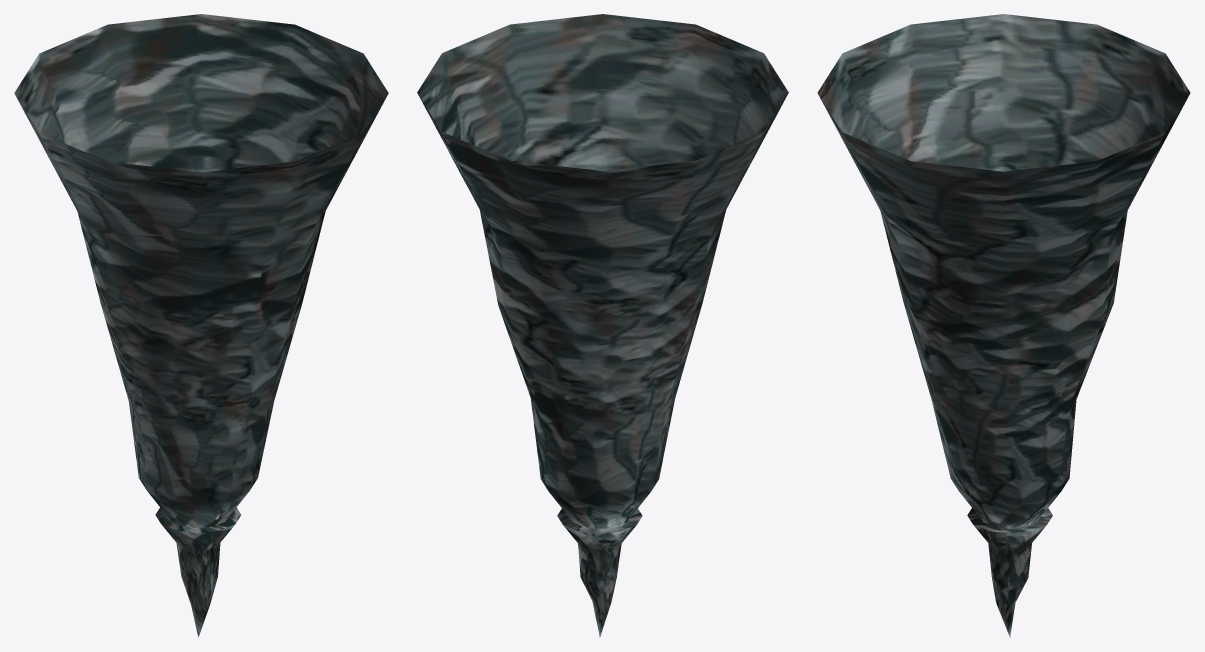
The model's file is INST_SM_STALAGC.fbx.
The picture shows the model from 3 angles, left to right: view 1: azimuth 30°, elevation 25°; view 2: azimuth 150°, elevation 25°; view 3: azimuth 270°, elevation 25°; orthographic projection.
Parts seen in each view (by area): view 1: INST_SM_STALAGC; view 2: INST_SM_STALAGC; view 3: INST_SM_STALAGC.
Part boxes in pixels (x1,y1,x2,y2): INST_SM_STALAGC: (14, 14, 388, 637); INST_SM_STALAGC: (417, 14, 788, 637); INST_SM_STALAGC: (817, 14, 1190, 637).
Size of the model in its own units: 51441 by 82913 by 51441.
Materials: 1 (1 with a texture image).
